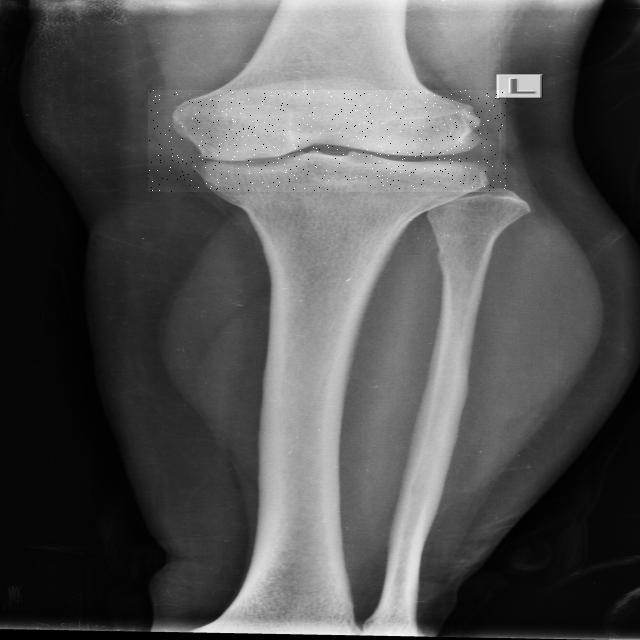normal: (148, 90, 506, 192)
